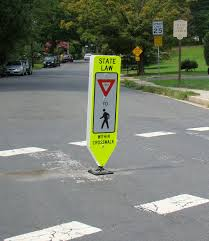yield_sign: (89, 55, 118, 166)
